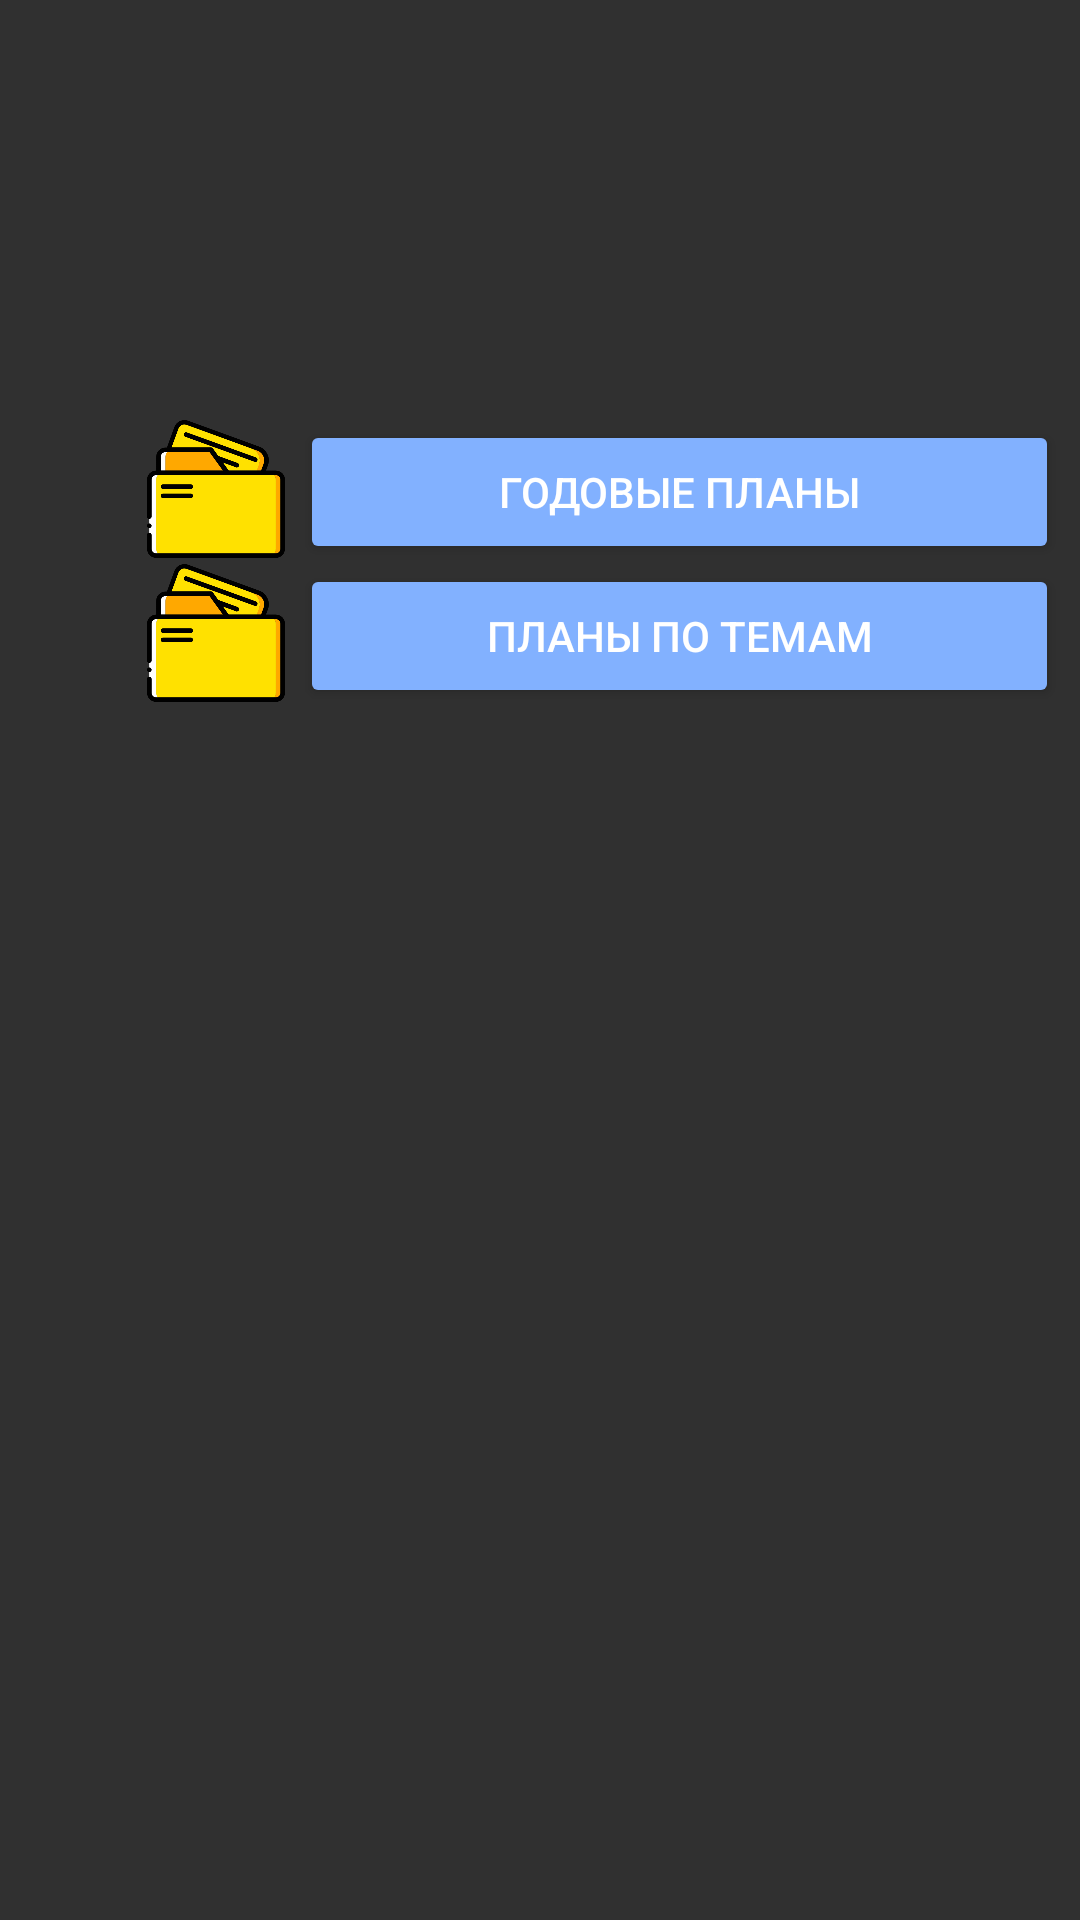

Where icons sit on this 1080 × 1920 app screen, as (x1, y1, x2, y2):
files: (147, 420, 285, 558), (147, 564, 285, 702)
